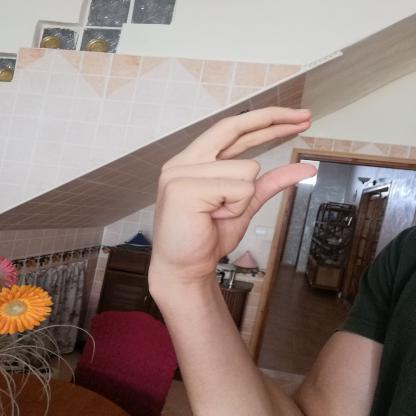DHELL: (138, 97, 332, 286)
